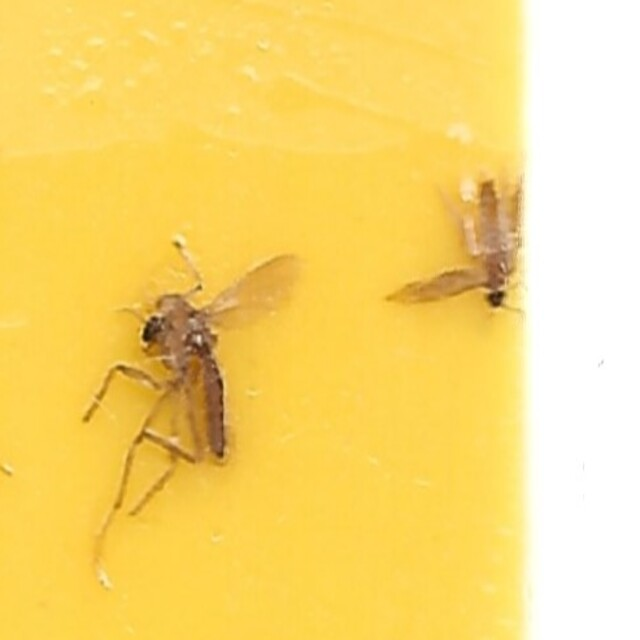Nematocera: (130, 279, 235, 467), (466, 173, 510, 309)
